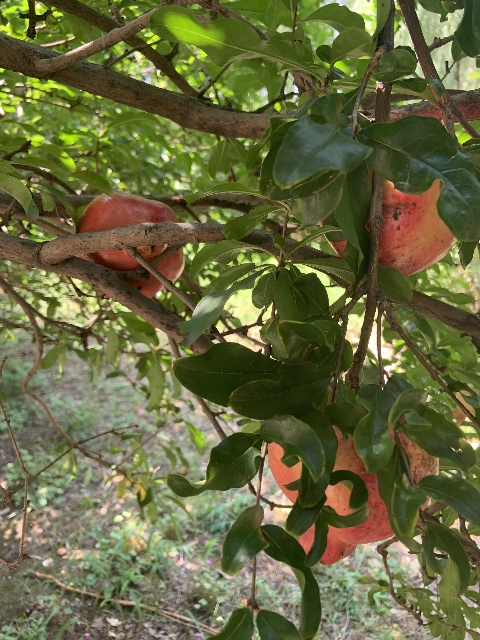ripe: (267, 425, 439, 563), (321, 168, 456, 287), (76, 192, 184, 298)
